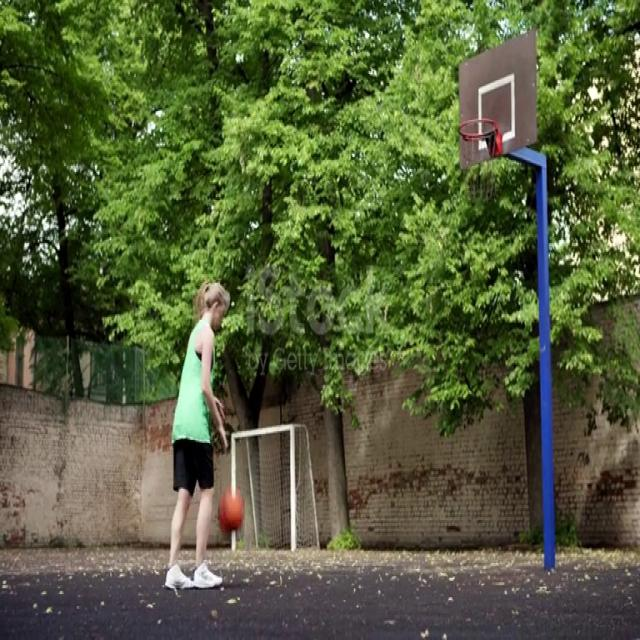ball: (219, 488, 244, 536)
